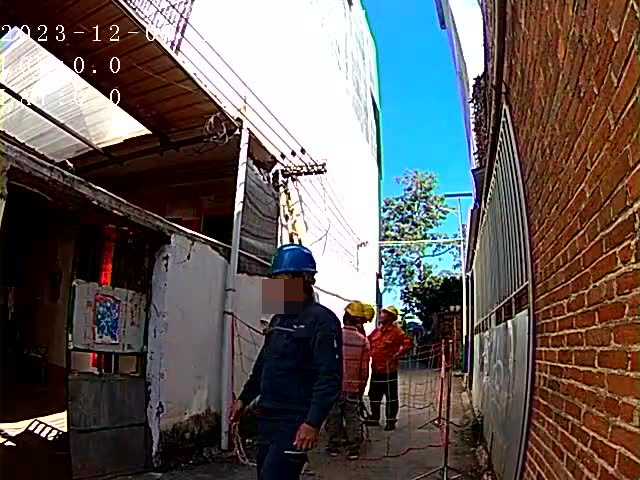downsuit: (252, 421, 316, 480)
halt: (266, 245, 319, 305), (344, 297, 367, 327), (377, 304, 401, 325)
hand: (223, 397, 247, 428), (292, 421, 317, 449)
inear: (278, 272, 310, 301)
person: (235, 243, 344, 480), (366, 305, 415, 435), (336, 297, 371, 463)
upsuit: (248, 300, 343, 416)
yupsuit: (338, 324, 370, 398), (367, 323, 413, 373)
